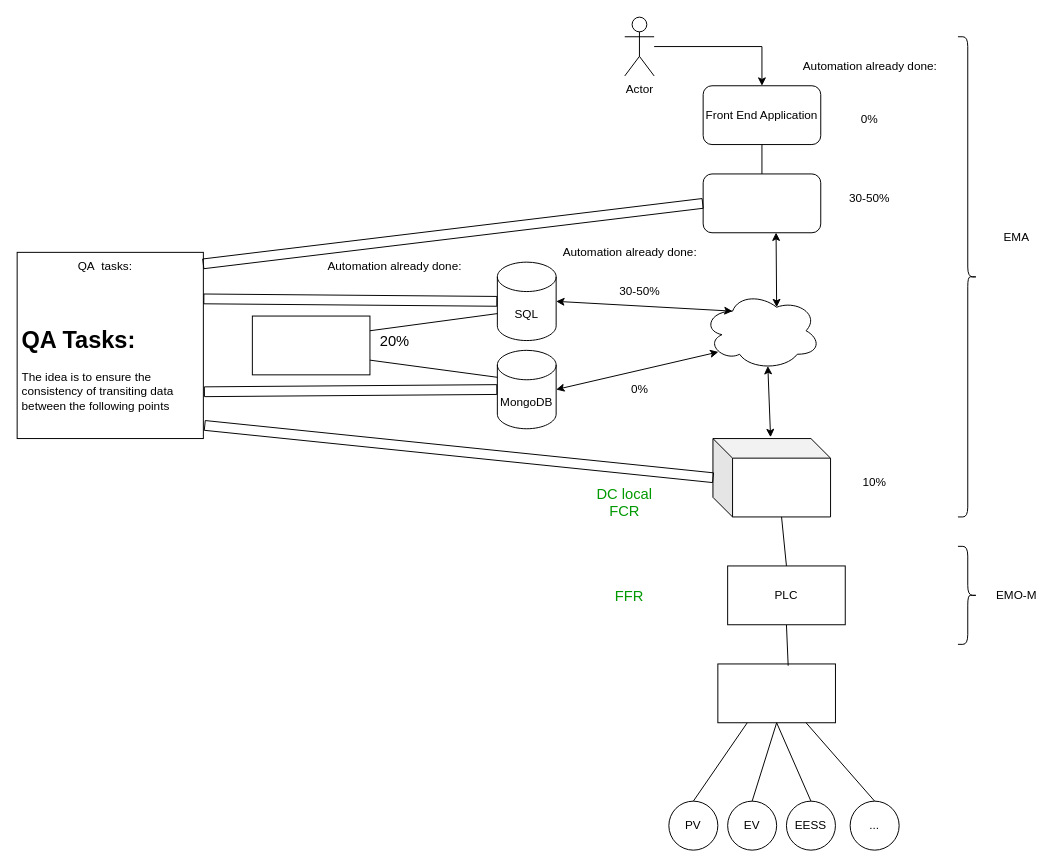
The diagram is 1063 pixels wide and 867 high, and some of its shapes have lost their labels. The shapes that lost their labels are listed below. From the top down, each one's centre as x and y in pixels, then its label:
At [761,203]: "Web Service".
At [310,345]: "MPC optimizer".
At [761,330]: "Cloud".
At [771,477]: "Box".
At [776,693]: "Power meter".
